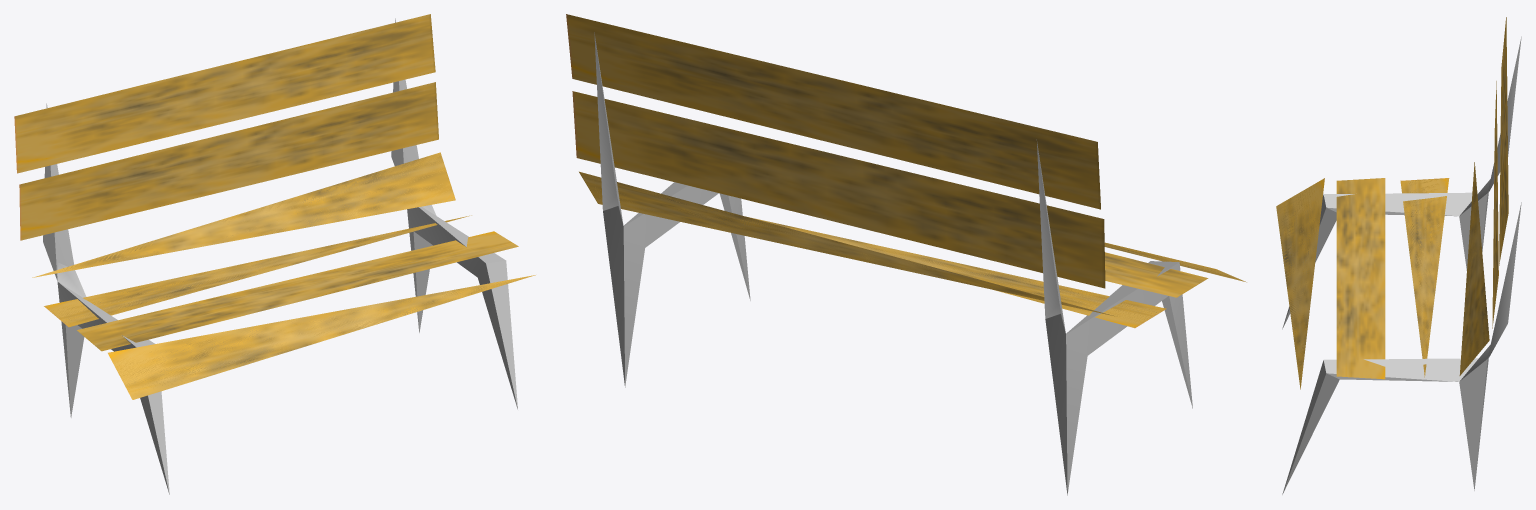
File: BancoMadeiraLOD1.fbx
3 views of the same model, side by side, from view 1: azimuth 30°, elevation 25°; view 2: azimuth 150°, elevation 25°; view 3: azimuth 270°, elevation 25° (orthographic). The views are drawn at different scales.
Parts seen in each view (by area): view 1: CadeiraLOD1; view 2: CadeiraLOD1; view 3: CadeiraLOD1.
Part boxes in pixels (x1=…): CadeiraLOD1: x1=14, y1=14, x2=535, y2=494; CadeiraLOD1: x1=566, y1=14, x2=1246, y2=495; CadeiraLOD1: x1=1276, y1=17, x2=1521, y2=494.
Bounding box in the file's own units: 105 × 73.26 × 54.87.
